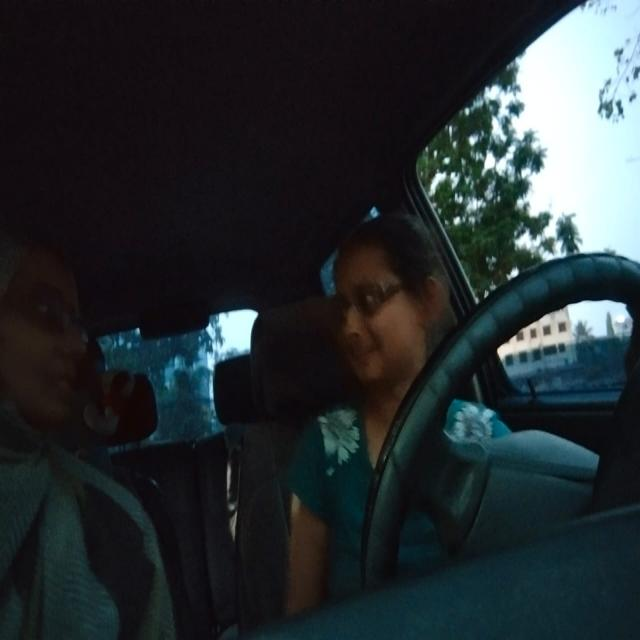LeftRight: (7, 236, 100, 431), (321, 235, 445, 378)
talking: (49, 372, 82, 400), (344, 343, 381, 365)
